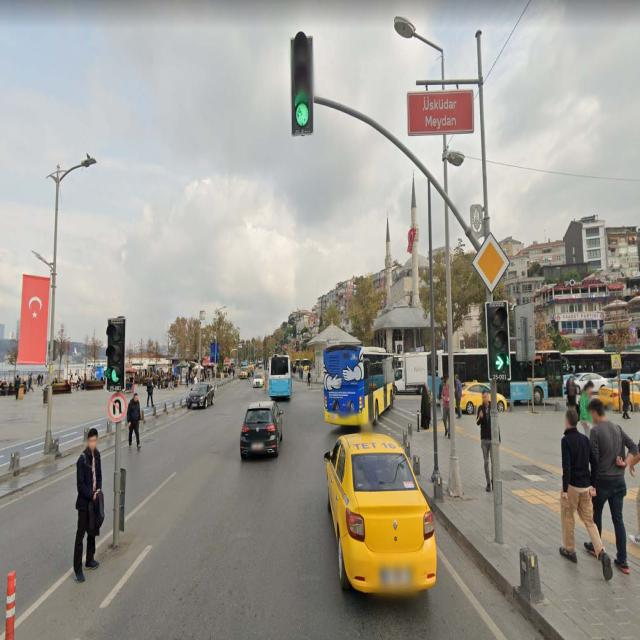yesil: (290, 36, 312, 135), (486, 300, 510, 380), (108, 317, 126, 389)
